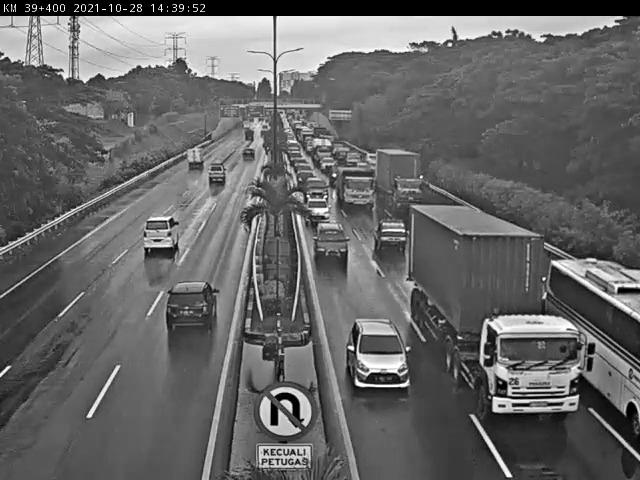big bus: (536, 249, 640, 426)
big truck: (406, 202, 569, 400), (377, 145, 425, 205), (337, 168, 374, 208)
car: (346, 316, 407, 386), (167, 281, 216, 327), (502, 254, 535, 297), (315, 222, 350, 259), (144, 217, 179, 253), (373, 219, 408, 251), (302, 174, 327, 197), (304, 194, 329, 214), (208, 164, 226, 184), (295, 169, 314, 184)
small truck: (186, 146, 207, 170)
